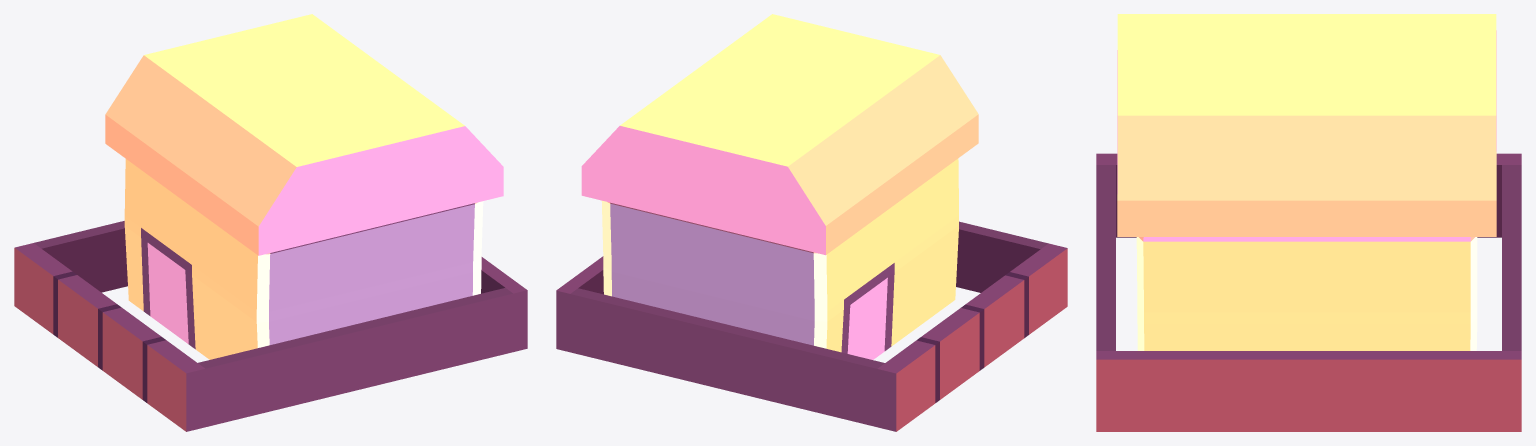
Rendered from house06.fbx.
3 views of the same model, side by side, from view 1: azimuth 30°, elevation 25°; view 2: azimuth 150°, elevation 25°; view 3: azimuth 270°, elevation 25° (orthographic). The views are drawn at different scales.
Parts seen in each view (by area): view 1: cube, cube.002, cube.006, cube.007, cube.004, cube.001, cube.003, cube.005; view 2: cube, cube.002, cube.006, cube.007, cube.004, cube.001, cube.003, cube.005; view 3: cube, cube.004, cube.001, cube.002, cube.006, cube.005, cube.003.
Boxes of the visible parts, <box> form: cube: <box>124,14,464,359</box>; cube.002: <box>15,203,527,431</box>; cube.006: <box>147,126,503,343</box>; cube.007: <box>269,204,474,344</box>; cube.004: <box>105,55,477,255</box>; cube.001: <box>14,248,186,431</box>; cube.003: <box>42,228,504,402</box>; cube.005: <box>256,201,483,347</box>; cube: <box>620,14,958,352</box>; cube.002: <box>556,202,1067,431</box>; cube.006: <box>581,126,887,359</box>; cube.007: <box>610,203,814,345</box>; cube.004: <box>607,55,978,254</box>; cube.001: <box>896,248,1067,431</box>; cube.003: <box>578,229,1040,402</box>; cube.005: <box>601,200,827,348</box>; cube: <box>1117,14,1496,350</box>; cube.004: <box>1117,115,1496,241</box>; cube.001: <box>1096,359,1521,431</box>; cube.002: <box>1096,153,1521,359</box>; cube.006: <box>1117,30,1496,241</box>; cube.005: <box>1136,237,1477,350</box>; cube.003: <box>1116,165,1501,237</box>.
Bounding box in the file's own units: 5.38 × 3.48 × 4.69.
